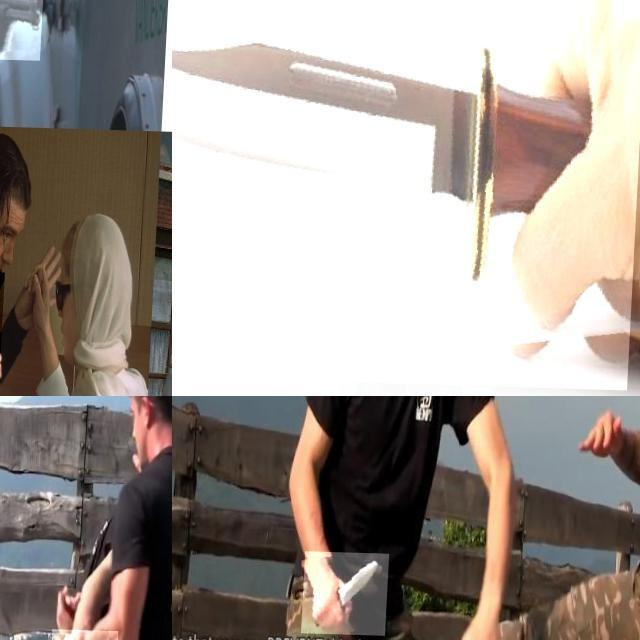-: (172, 0, 640, 386), (307, 550, 395, 634)
gun-knife-thesis - v11 Yolov5 augmented: (0, 0, 66, 59), (0, 270, 16, 396)
